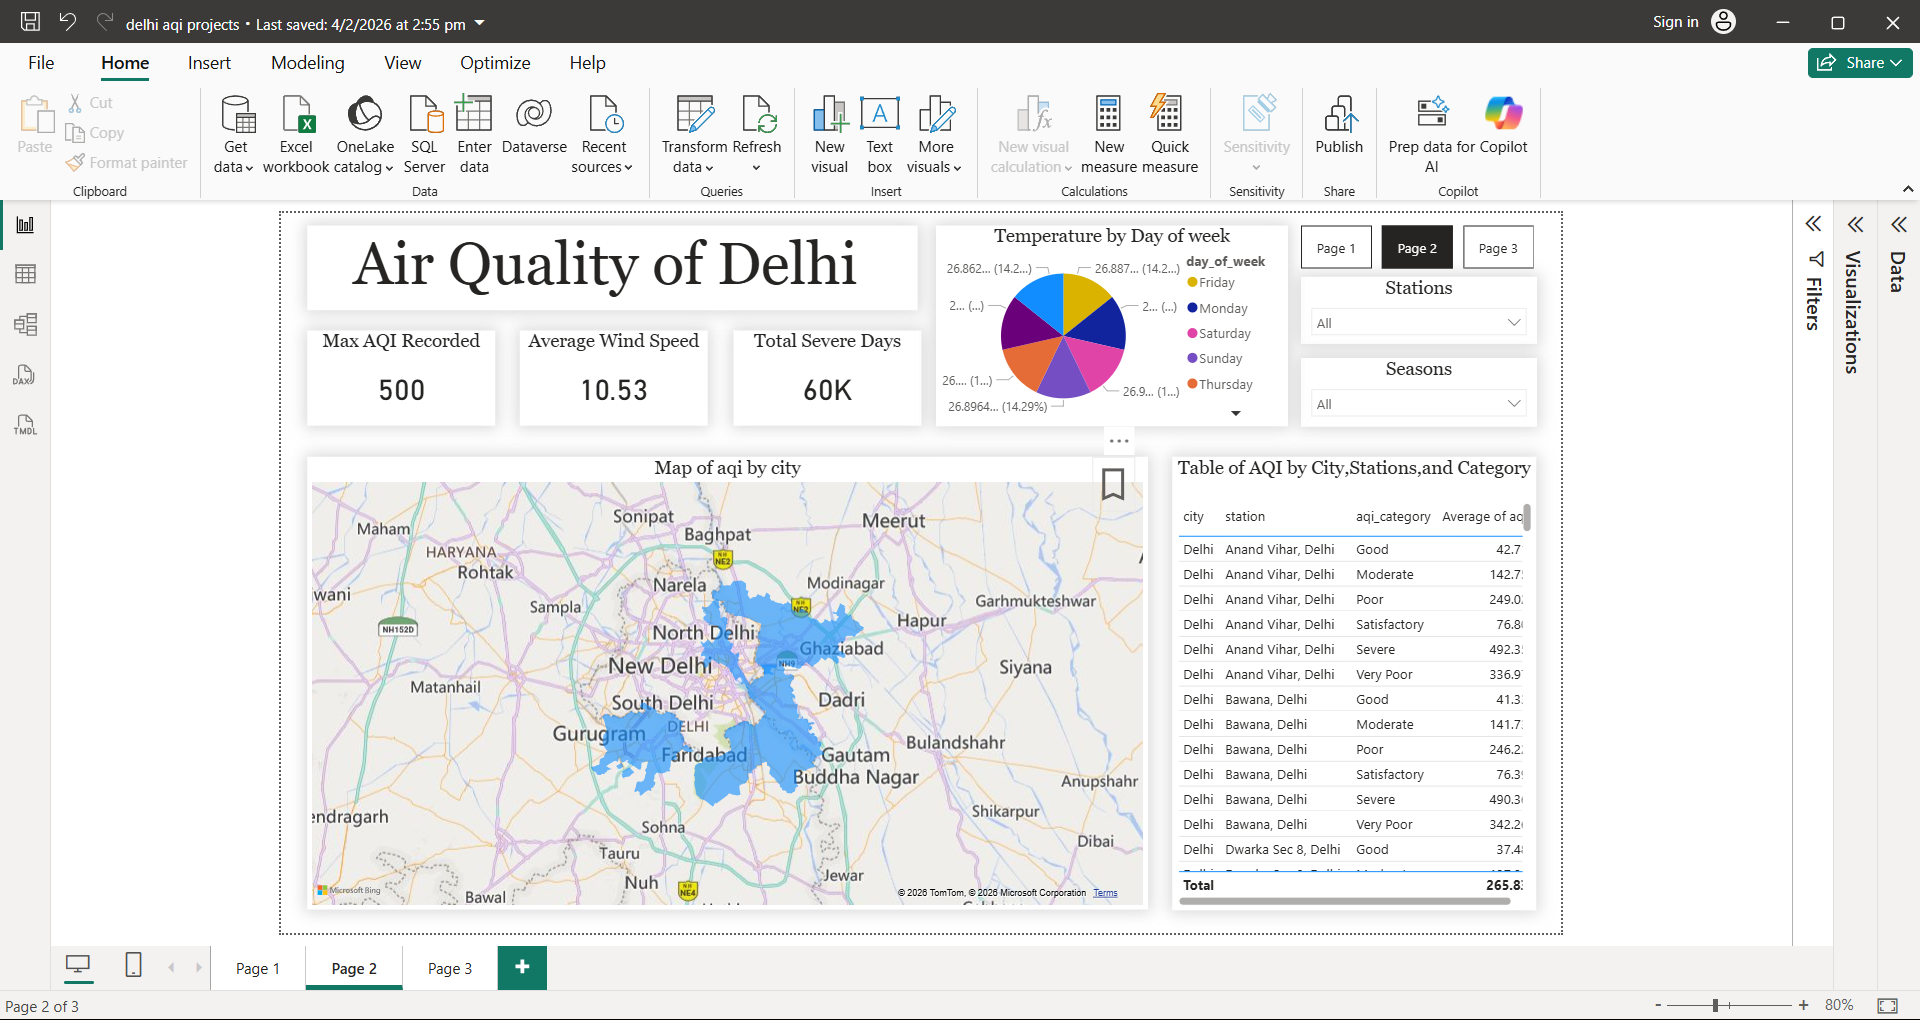

The page's visual inventory and layout, read from the dashboard file:
{"tool":"powerbi","page":{"name":"Page 2","canvas":[1280,720],"ordinal":1},"visuals":[{"type":"textbox","box":[26.9,11.9,610.4,85.1],"z":0},{"type":"card","title":" Max AQI Recorded","fields":{"Values":["delhi_ncr_aqi_dataset.Max AQI"]},"box":[26.9,117.9,188.1,95.5],"z":1000},{"type":"card","title":"Total Severe Days","fields":{"Values":["delhi_ncr_aqi_dataset.Severe Days"]},"box":[452.2,117.9,188.1,95.5],"z":2000},{"type":"card","title":"Average Wind Speed ","fields":{"Values":["delhi_ncr_aqi_dataset.Average Wind speed"]},"box":[238.8,117.9,188.1,95.5],"z":3000},{"type":"slicer","title":" Stations","fields":{"Values":["delhi_ncr_aqi_dataset.station"]},"box":[1019.4,64.2,235.8,67.2],"z":4000},{"type":"slicer","title":"Seasons ","fields":{"Values":["delhi_ncr_aqi_dataset.season"]},"box":[1019.4,144.8,235.8,68.7],"z":5000},{"type":"pageNavigator","box":[1019.4,11.9,235.8,43.3],"z":6000},{"type":"pieChart","title":"Temperature by Day of week","fields":{"Category":["delhi_ncr_aqi_dataset.day_of_week"],"Y":["Avg(delhi_ncr_aqi_dataset.temperature)"]},"box":[655.4,12.2,352.2,200.5],"z":7000},{"type":"treemap","title":"Sum of Aqi by Station","fields":{"Values":["Avg(delhi_ncr_aqi_dataset.aqi)"],"Group":["delhi_ncr_aqi_dataset.station"]},"box":[26.6,243.8,840.6,453.1],"z":8000},{"type":"tableEx","title":"Table of AQI by City,Stations,and Category ","fields":{"Values":["delhi_ncr_aqi_dataset.city","delhi_ncr_aqi_dataset.station","delhi_ncr_aqi_dataset.aqi_category","Avg(delhi_ncr_aqi_dataset.aqi)"]},"box":[891,243.3,364.2,453.7],"z":9000},{"type":"actionButton","box":[810.9,243.8,40.6,54.7],"z":11000}]}

Visuals, with their boxes on the page's 1280x720 design canvas (x1, y1, x2, y2). These are canvas units, not pixel positions in the 1920x1020 screenshot, which may show the page scaled, cropped or inside an application window:
textbox: x1=27 y1=12 x2=637 y2=97
" Max AQI Recorded" card: x1=27 y1=118 x2=215 y2=213
"Total Severe Days" card: x1=452 y1=118 x2=640 y2=213
"Average Wind Speed " card: x1=239 y1=118 x2=427 y2=213
" Stations" slicer: x1=1019 y1=64 x2=1255 y2=131
"Seasons " slicer: x1=1019 y1=145 x2=1255 y2=214
pageNavigator: x1=1019 y1=12 x2=1255 y2=55
"Temperature by Day of week" pieChart: x1=655 y1=12 x2=1008 y2=213
"Sum of Aqi by Station" treemap: x1=27 y1=244 x2=867 y2=697
"Table of AQI by City,Stations,and Category " tableEx: x1=891 y1=243 x2=1255 y2=697
actionButton: x1=811 y1=244 x2=852 y2=298
